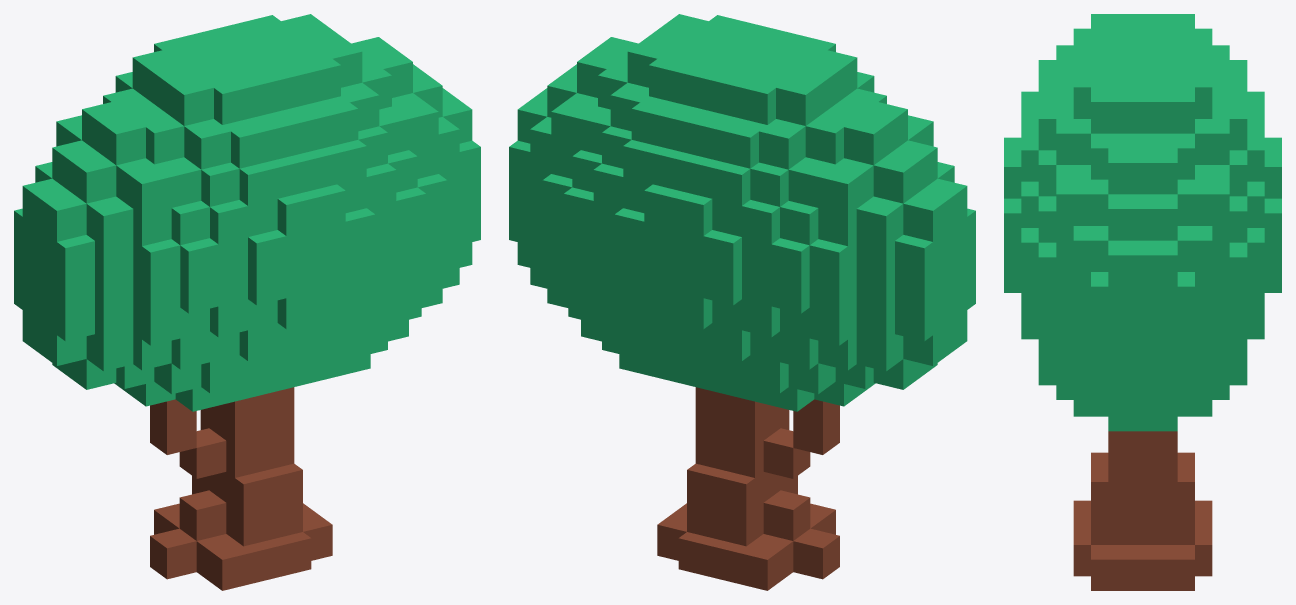
The model's file is Tree.fbx.
3 views of the same model, side by side, from view 1: azimuth 30°, elevation 25°; view 2: azimuth 150°, elevation 25°; view 3: azimuth 270°, elevation 25° (orthographic).
Parts seen in each view (by area): view 1: generated; view 2: generated; view 3: generated.
Part boxes in pixels (left/top/right/bottom): generated: left=14, top=14, right=480, bottom=590; generated: left=509, top=14, right=975, bottom=590; generated: left=1004, top=14, right=1281, bottom=590.
Bounding box in the file's own units: 140 × 160 × 80.
